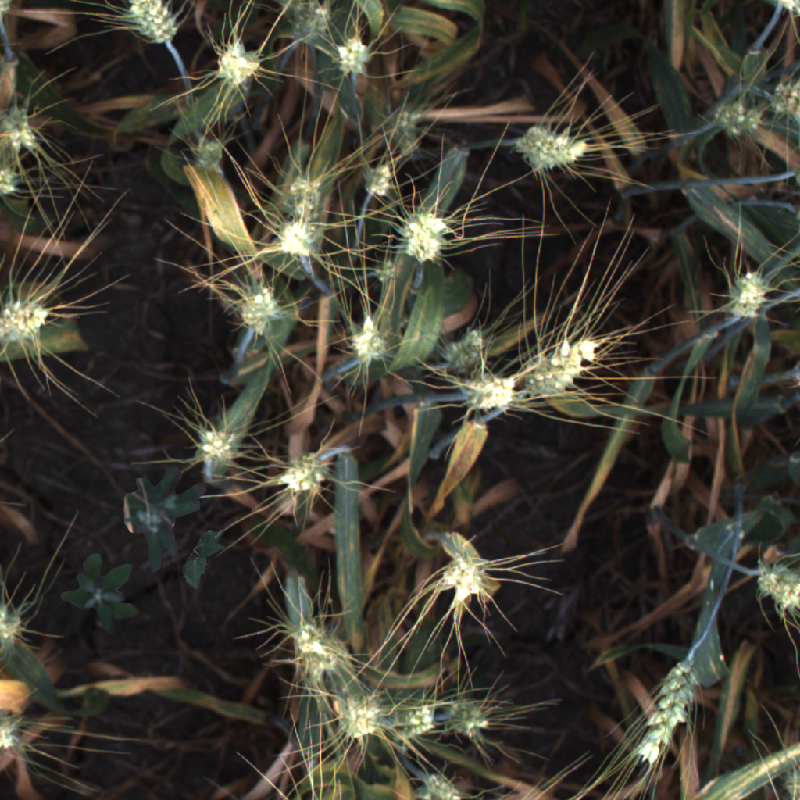spikelet: (486, 315, 611, 425), (633, 653, 698, 767), (260, 436, 346, 517), (446, 346, 525, 427), (508, 118, 603, 182), (183, 412, 251, 482), (339, 304, 397, 377), (230, 280, 296, 344), (394, 200, 455, 266), (435, 546, 502, 606), (265, 206, 329, 268), (1, 281, 52, 357), (204, 34, 266, 94), (282, 1, 351, 53), (291, 620, 352, 678), (432, 314, 492, 372), (708, 89, 771, 140), (117, 1, 188, 44), (723, 266, 776, 322), (325, 28, 377, 85), (761, 556, 800, 621), (332, 689, 382, 739), (356, 151, 400, 204), (385, 103, 428, 157), (281, 167, 325, 214), (1, 103, 38, 158), (443, 696, 489, 739), (757, 74, 800, 119), (408, 769, 466, 799), (1, 595, 27, 658), (1, 712, 29, 764), (399, 703, 435, 739), (192, 137, 222, 171), (771, 1, 800, 21)
weed: (111, 457, 228, 577), (63, 551, 137, 634), (176, 522, 232, 593)
